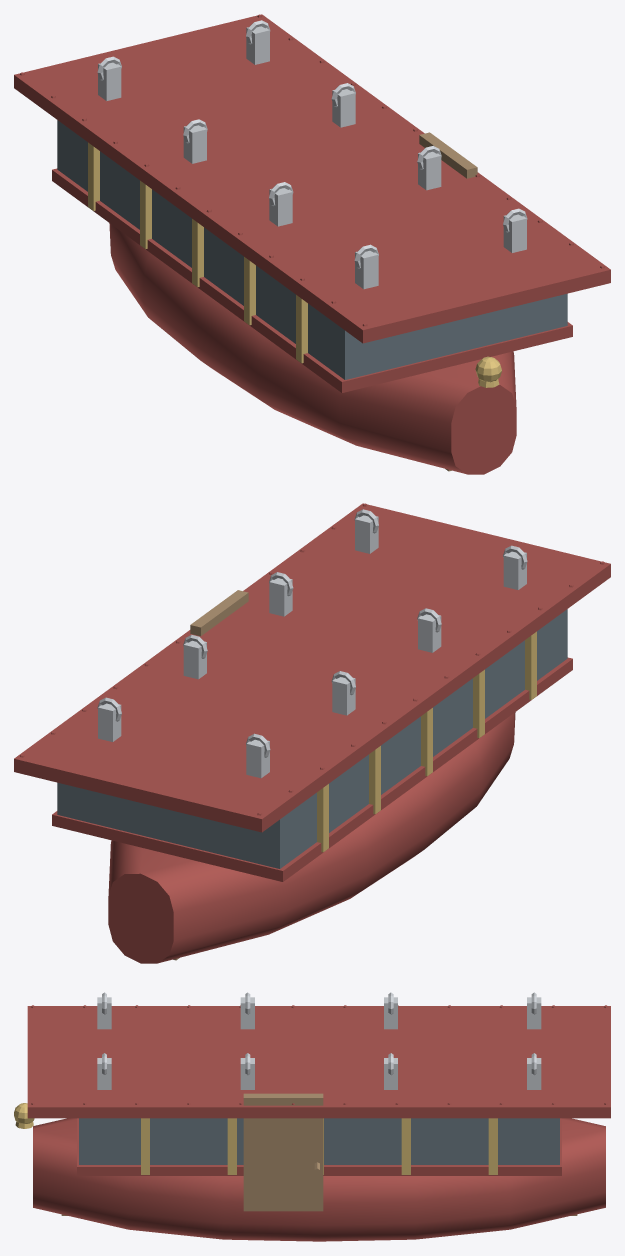
File: steampunk-airship-dock-and-workshop-airship-gondola-cr-c07128fb__36039.glb
3 views of the same model, one above another, from view 1: azimuth 30°, elevation 25°; view 2: azimuth 150°, elevation 25°; view 3: azimuth 270°, elevation 25° (orthographic). The views are drawn at different scales.
Parts seen in each view (by area): view 1: airship-gondola-crimson, gondola-door; view 2: airship-gondola-crimson, gondola-door; view 3: airship-gondola-crimson, gondola-door.
Boxes of the visible parts, x1,y1,x2,y2 form: airship-gondola-crimson: (14, 14, 610, 474); gondola-door: (419, 132, 477, 178); airship-gondola-crimson: (14, 503, 610, 963); gondola-door: (190, 590, 248, 636); airship-gondola-crimson: (14, 992, 610, 1241); gondola-door: (243, 1093, 323, 1211).
Bounding box in the file's own units: 2.45 × 1.99 × 5.83.
